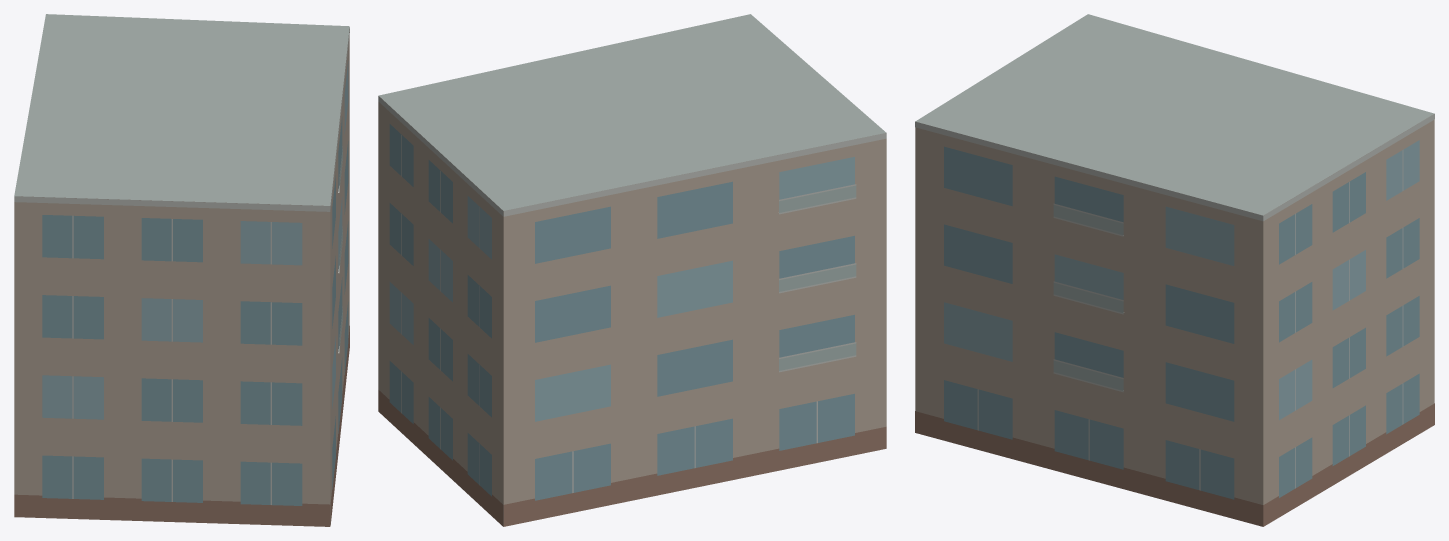
The model's file is survey-upis-32748854.glb.
3 views of the same model, side by side, from view 1: azimuth 30°, elevation 25°; view 2: azimuth 150°, elevation 25°; view 3: azimuth 270°, elevation 25° (orthographic). The views are drawn at different scales.
Visible parts, largest first — view 1: survey-upis-32748854.tmp; view 2: survey-upis-32748854.tmp; view 3: survey-upis-32748854.tmp.
Part boxes in pixels (left/top/right/bottom): survey-upis-32748854.tmp: left=14, top=14, right=349, bottom=526; survey-upis-32748854.tmp: left=378, top=14, right=886, bottom=526; survey-upis-32748854.tmp: left=915, top=14, right=1434, bottom=526.
Bounding box in the file's own units: 18.36 × 13.21 × 19.99.
